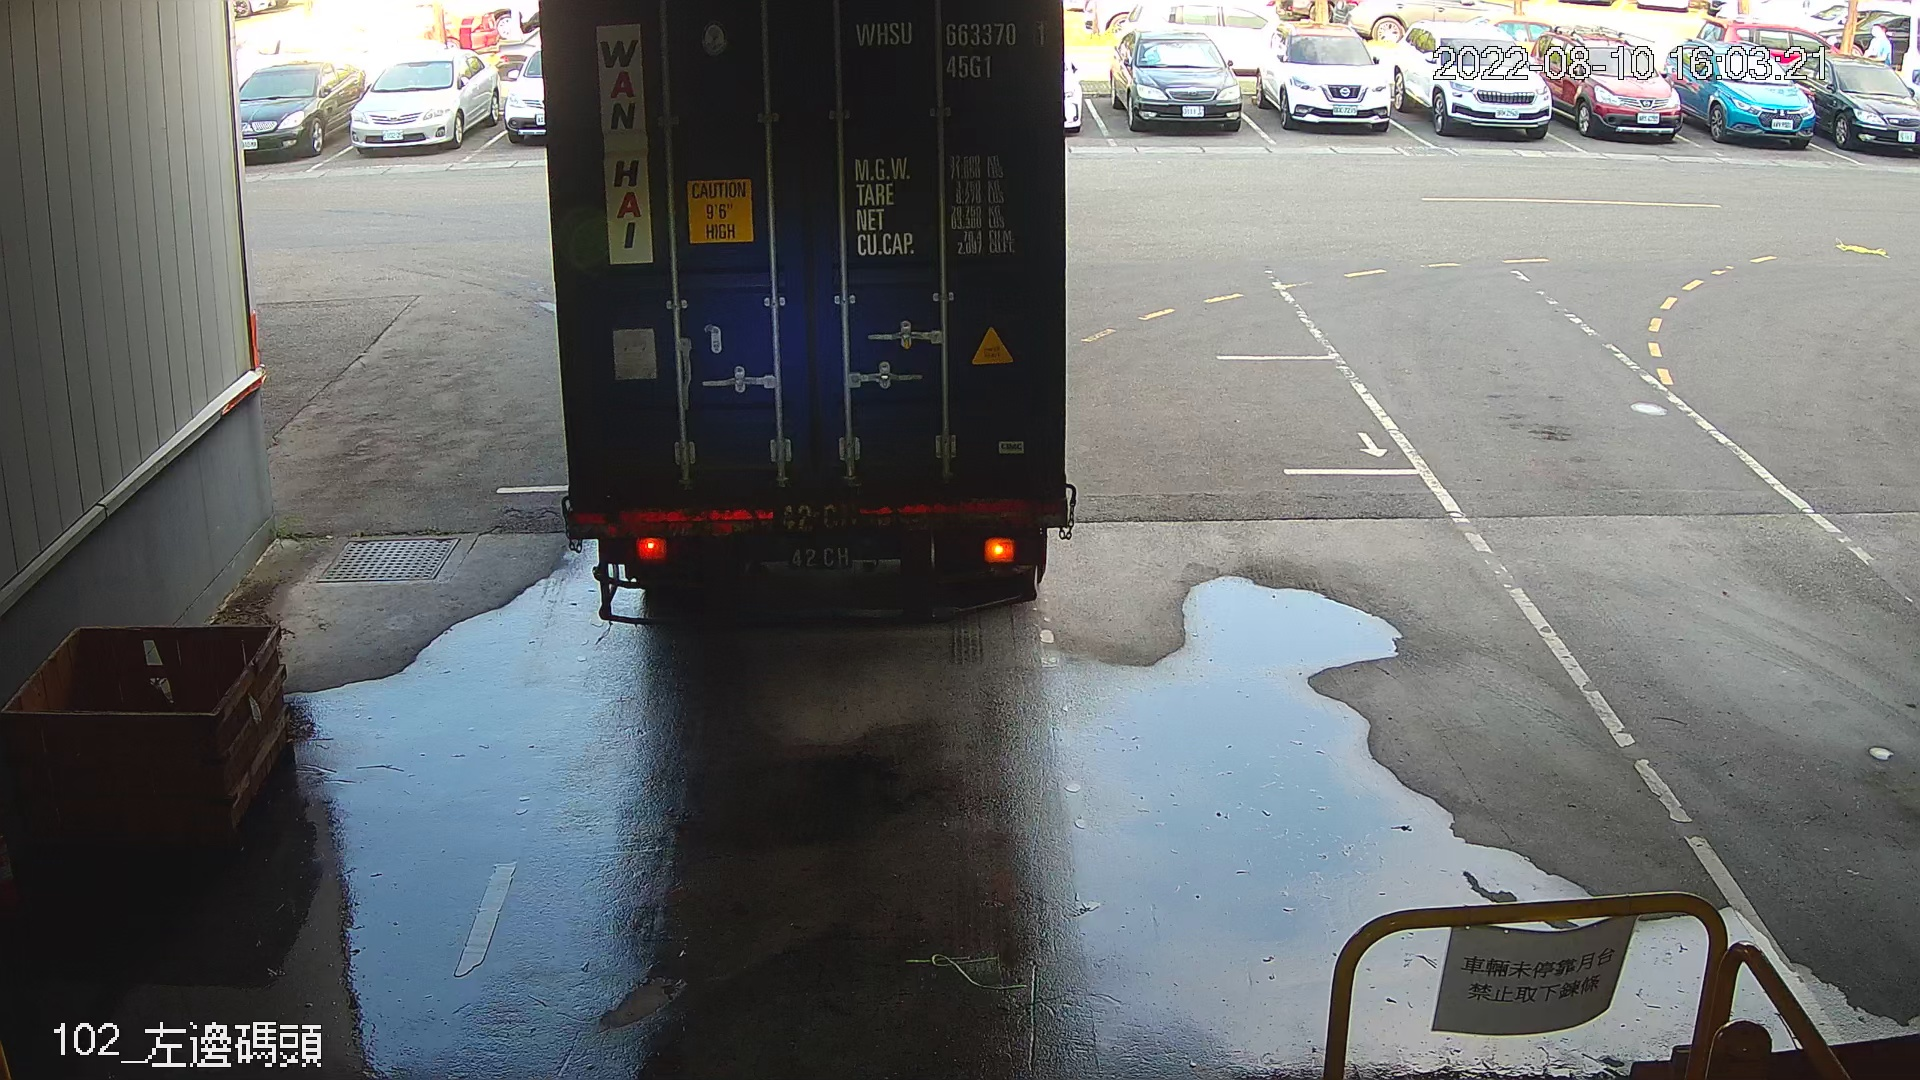container: (848, 4, 1054, 88)
